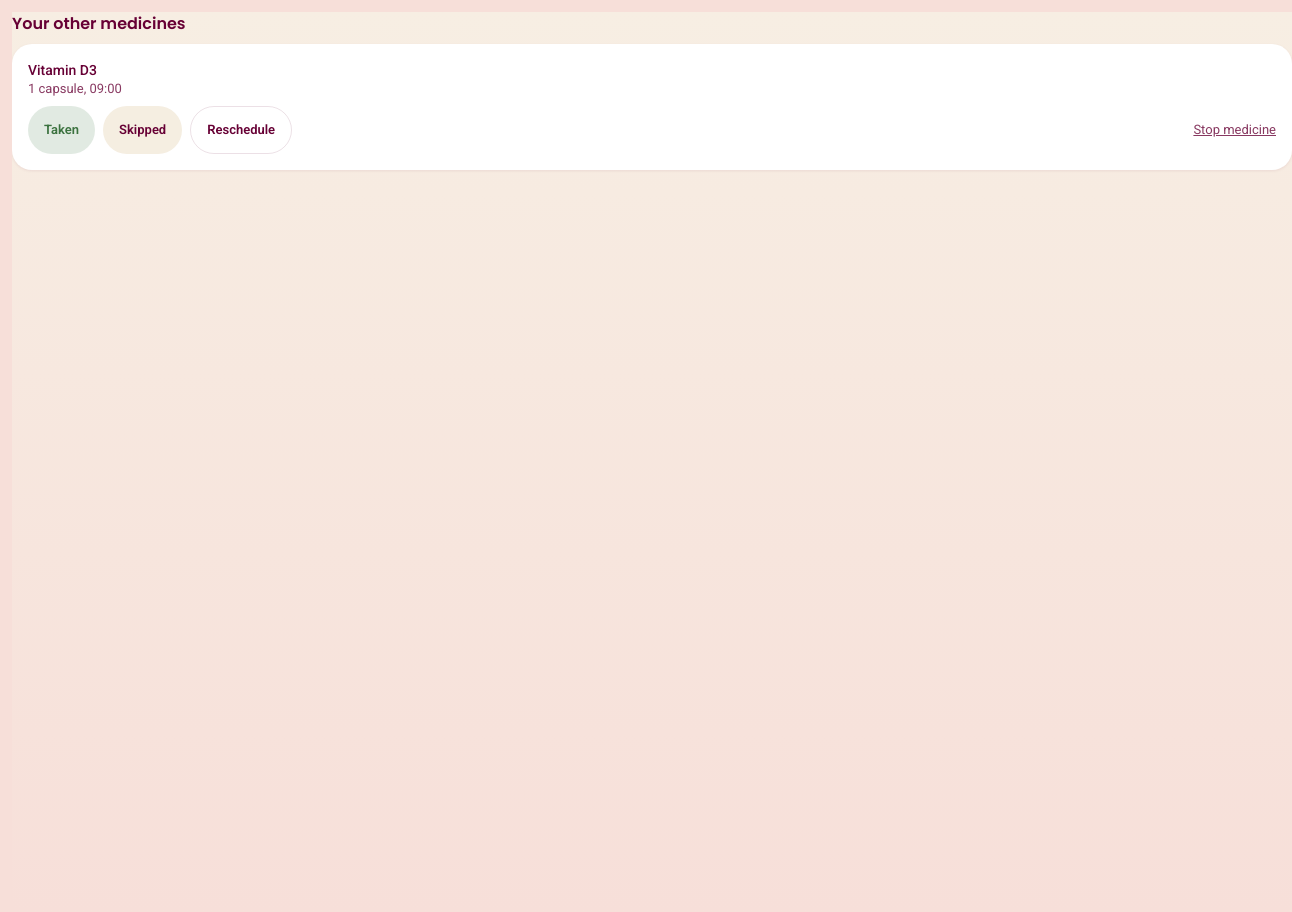
Test case: MedicineList › logging a dose shows a toast and updates optimistically
Click the button "Taken" at (62, 130), box [28, 106, 95, 154]
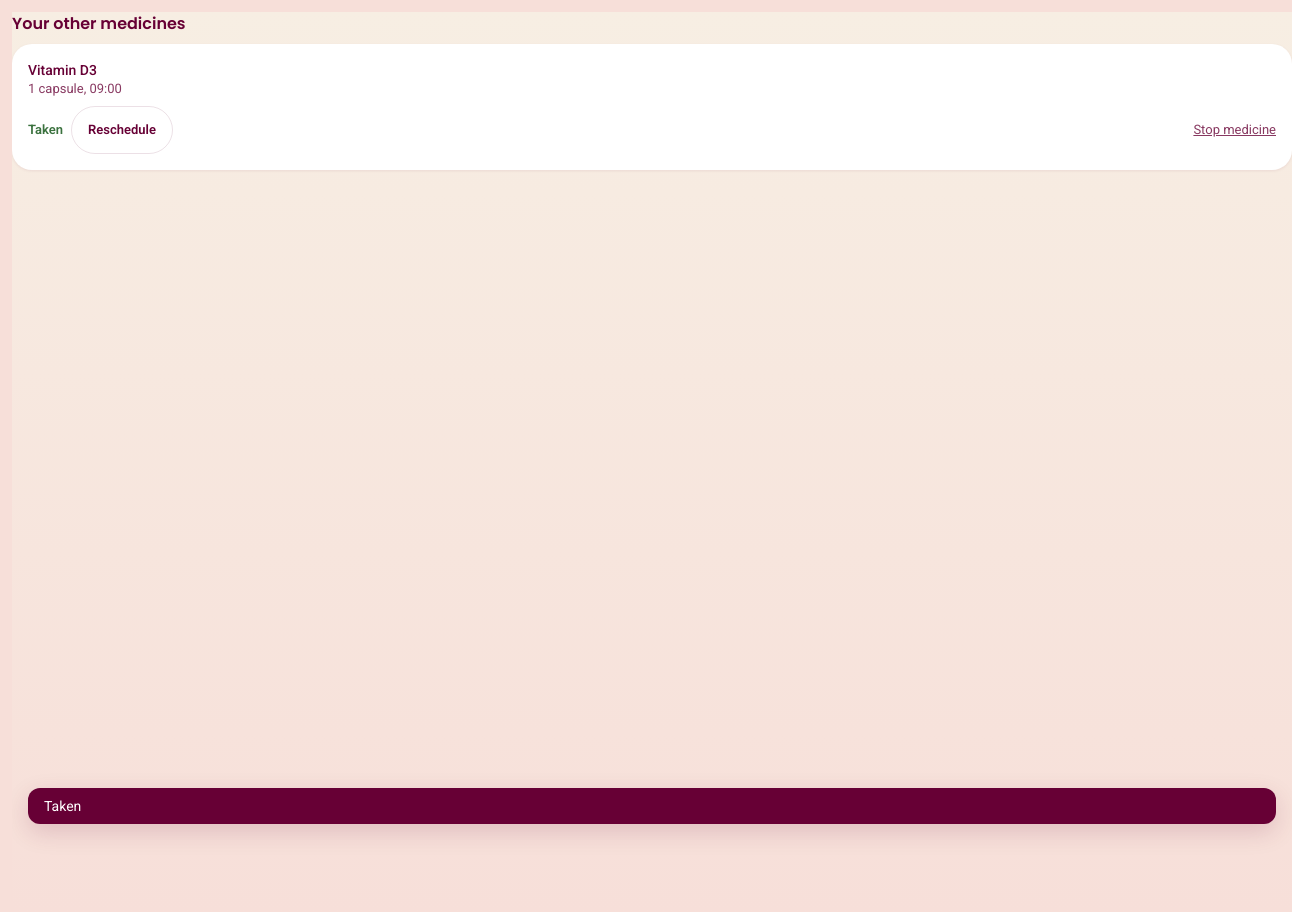
Check: the text "Taken" is shown, box [28, 121, 63, 139]
Check: the message "Taken" is shown, box [28, 788, 1276, 824]
